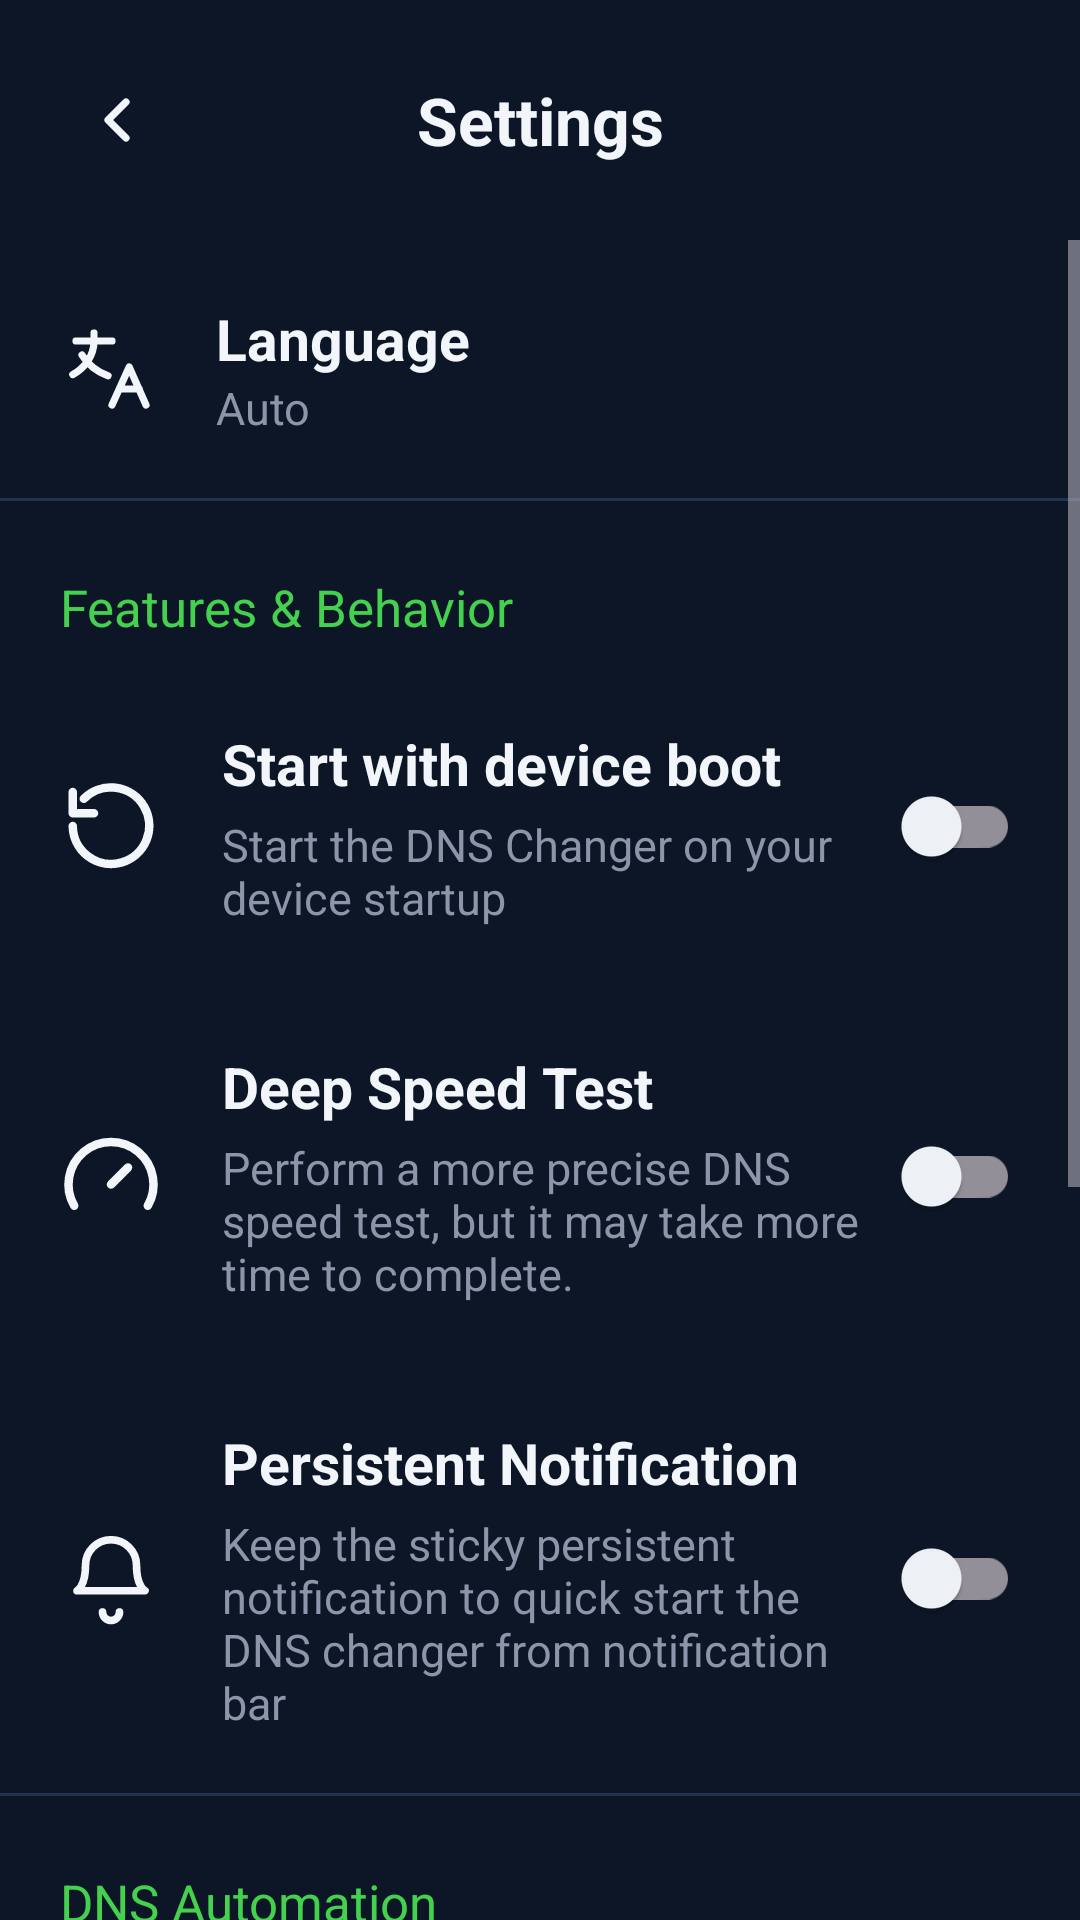

Named icons in this screenshot (1080px×1920px) and their bounding boxes, (x1, y1, x2, y2):
back: (104, 98, 130, 142)
bell: (73, 1536, 149, 1625)
gauge: (64, 1137, 158, 1210)
restart: (68, 783, 154, 869)
translate: (69, 329, 150, 409)
